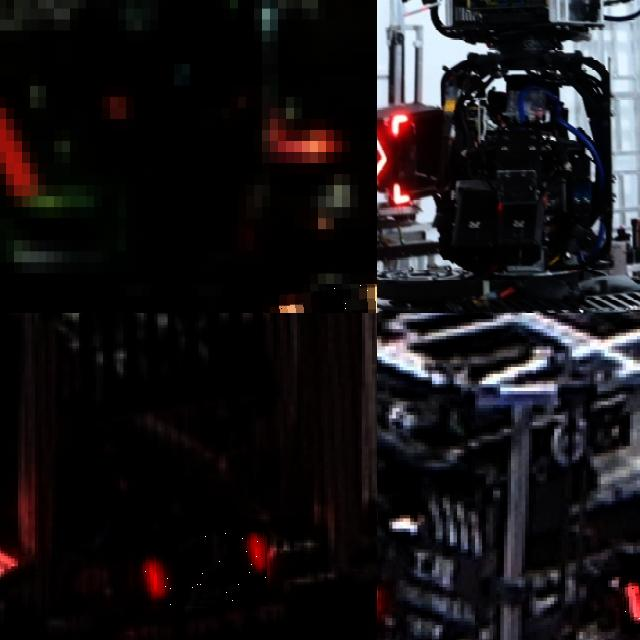R2: (133, 532, 267, 606), (620, 554, 640, 633)
Rs: (270, 284, 377, 313)
